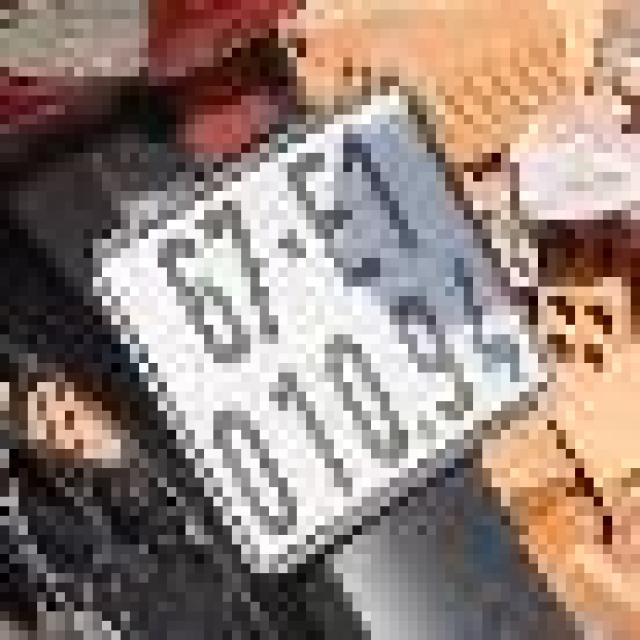0: (186, 382, 315, 550), (307, 321, 433, 476)
1: (249, 353, 373, 517), (324, 106, 440, 269)
4: (431, 240, 548, 407)
6: (140, 220, 266, 369)
7: (186, 175, 307, 364)
9: (372, 269, 499, 447)
E: (267, 139, 401, 306)
